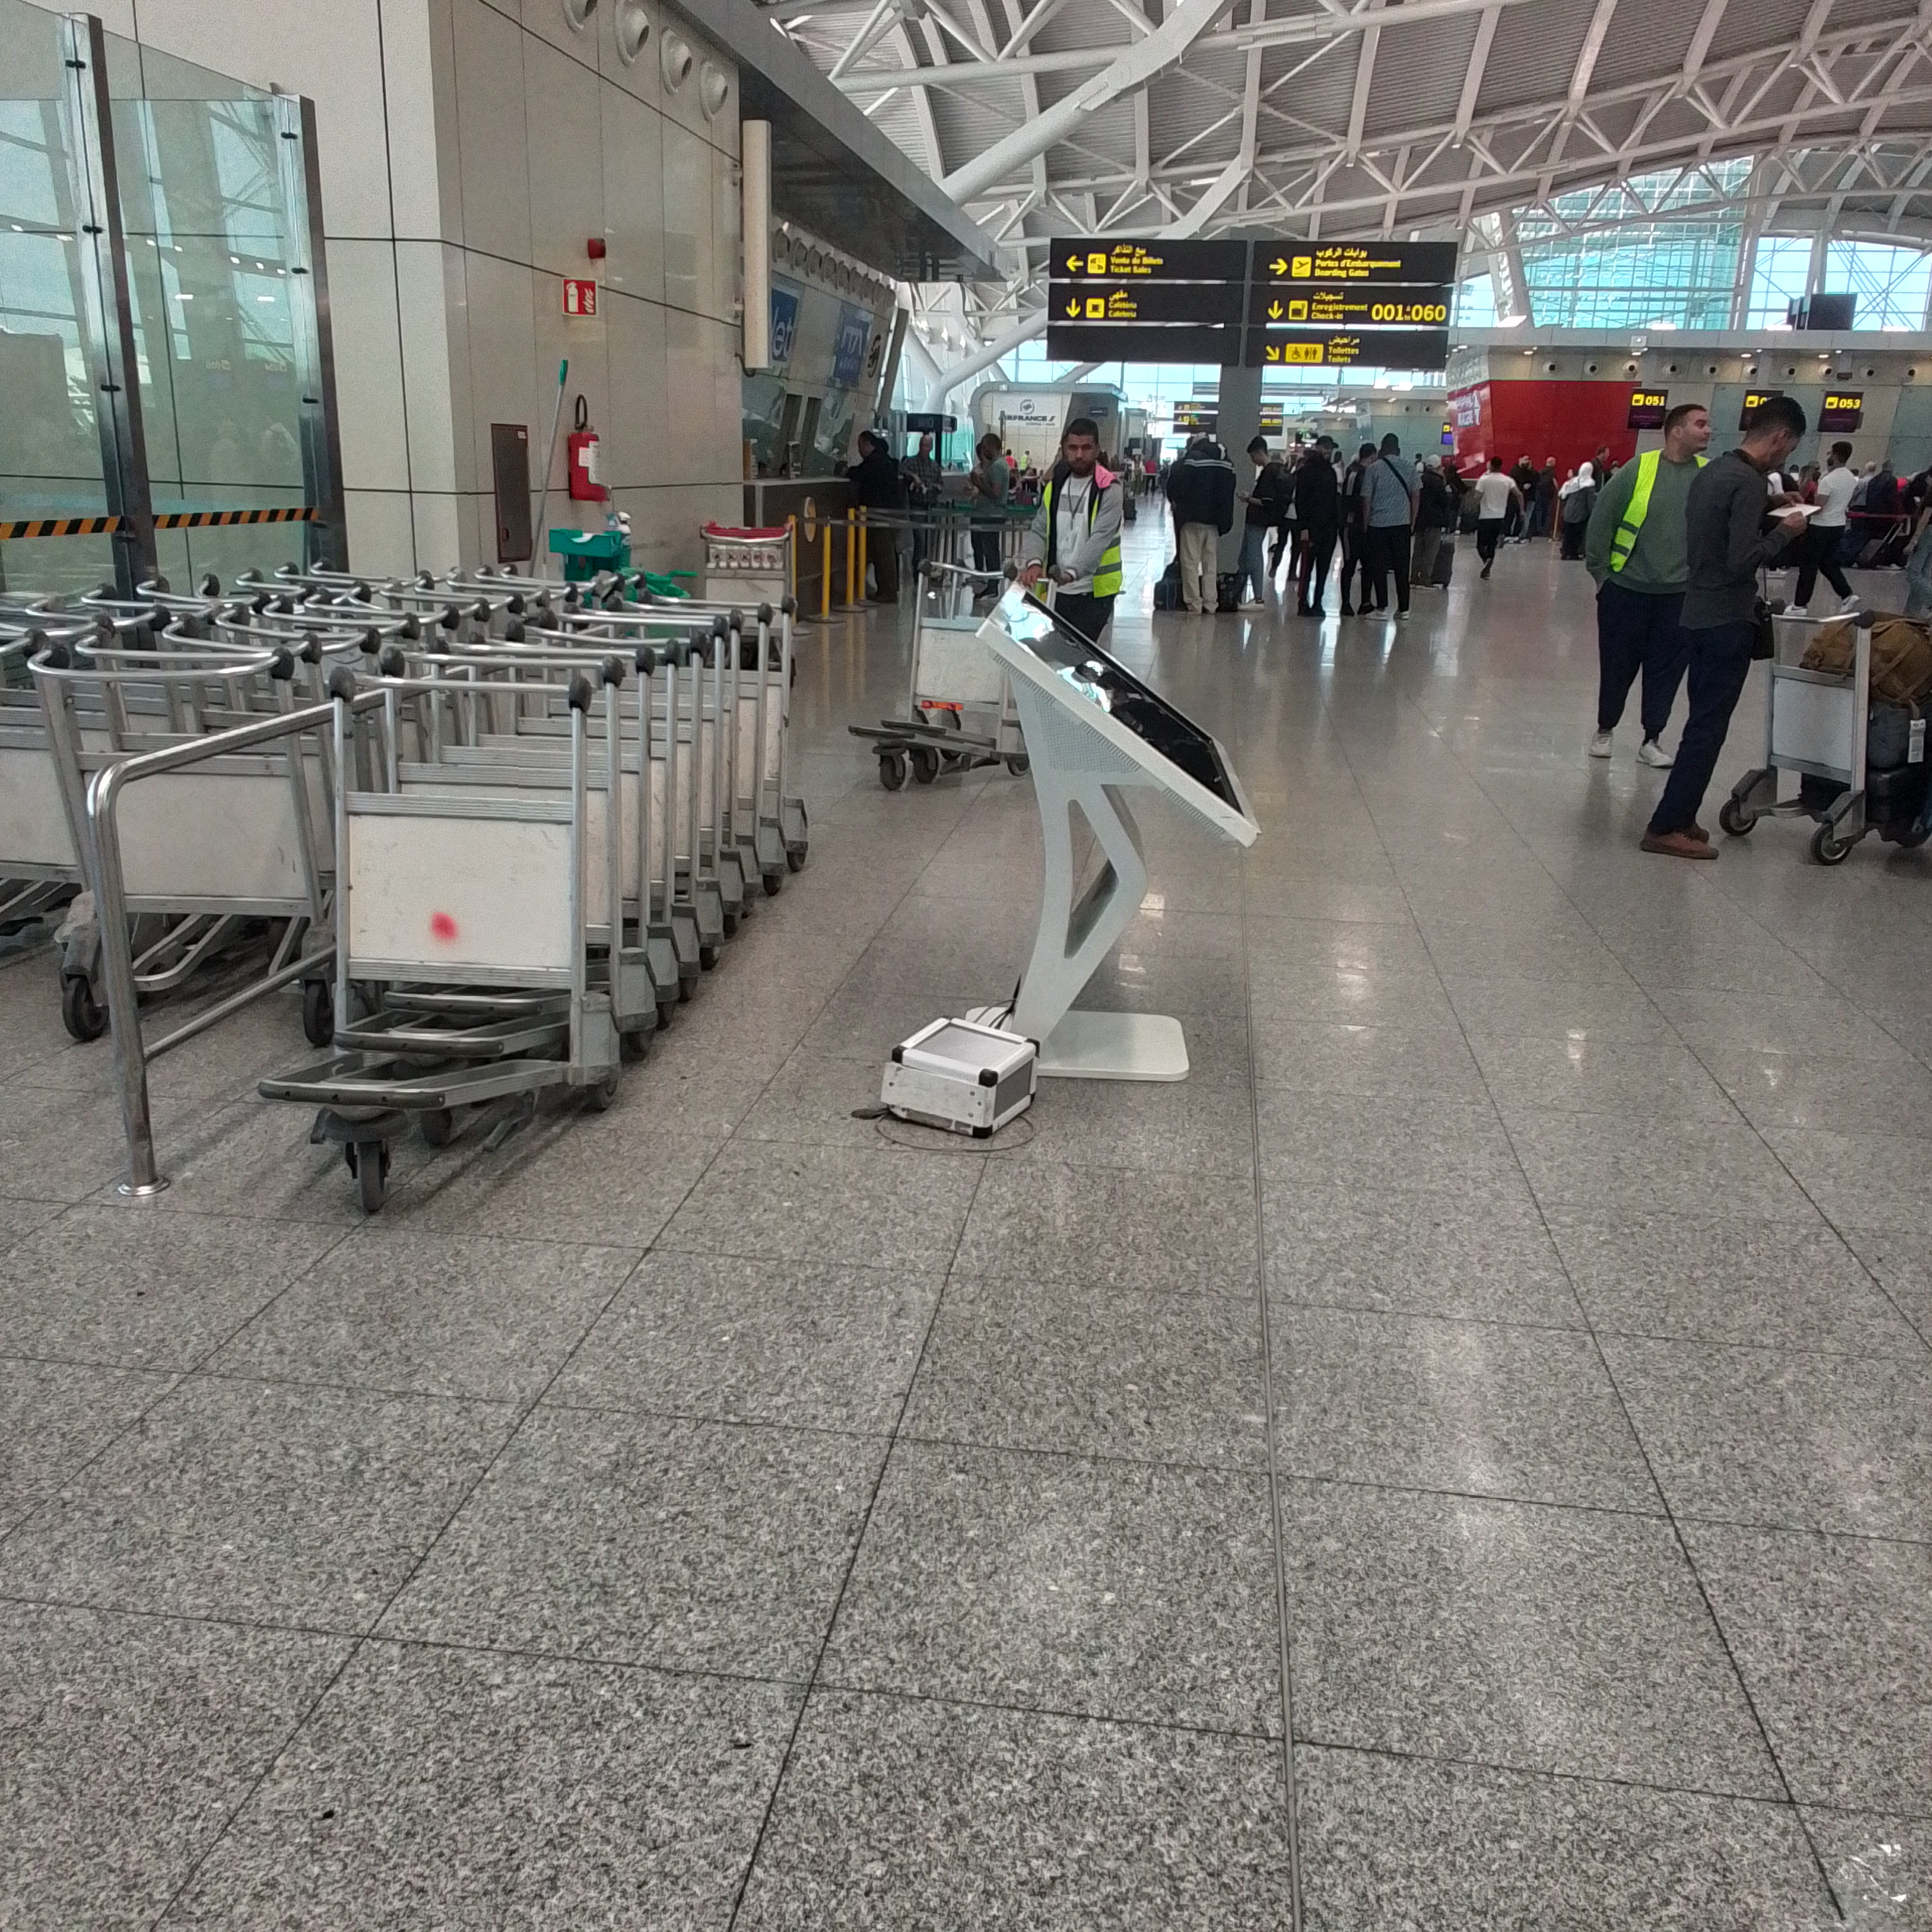airport-trolley: (313, 665, 610, 1157), (30, 635, 338, 1044), (536, 635, 681, 1069), (616, 580, 745, 1063), (709, 556, 805, 1017)
